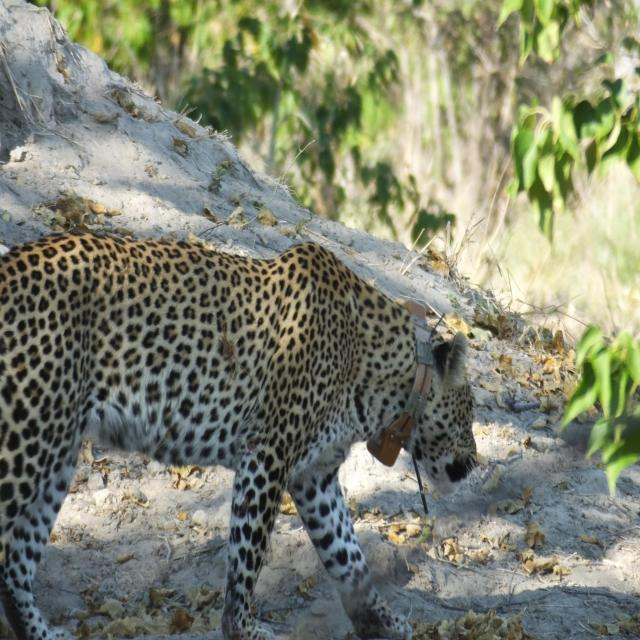Leopard: (18, 232, 483, 632)
